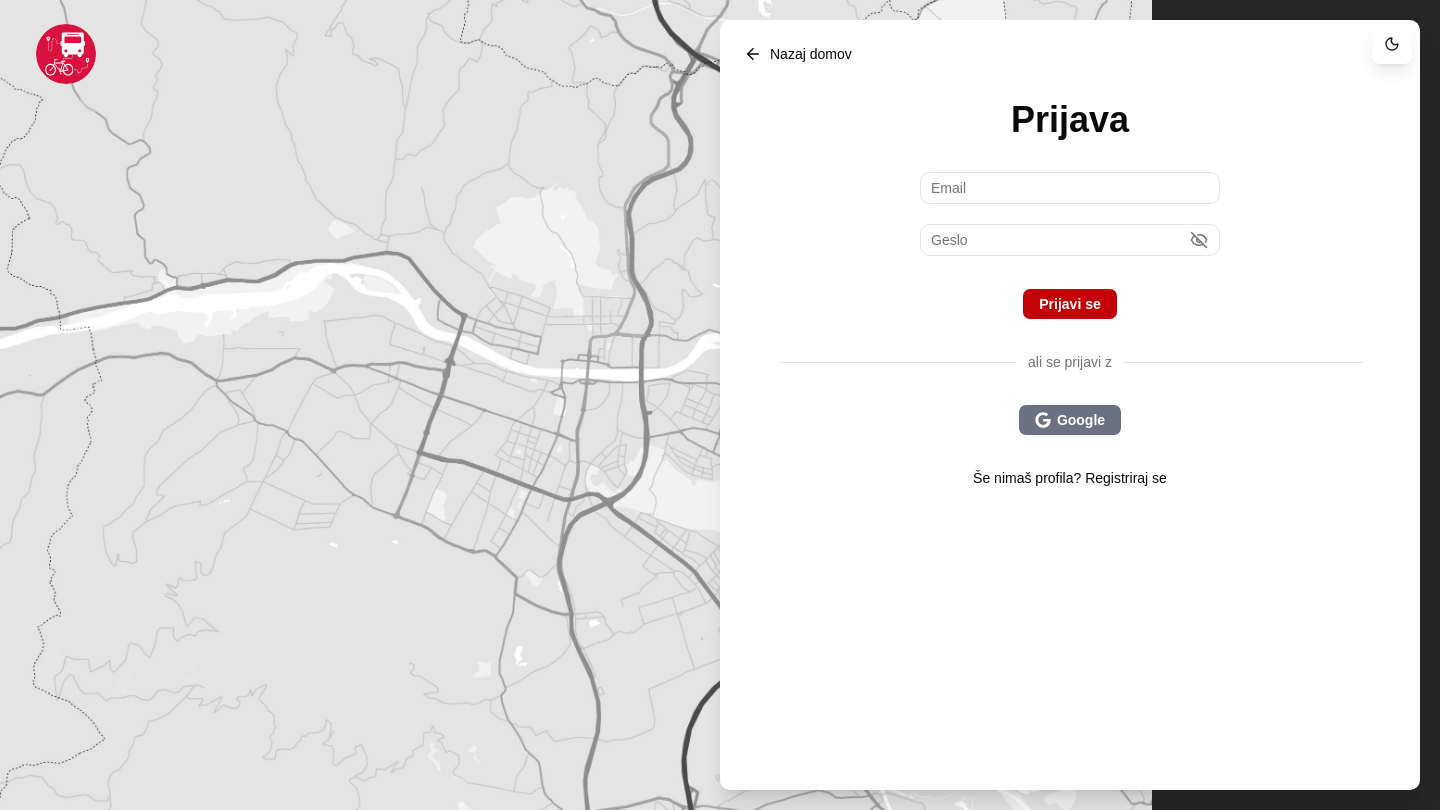
it: integracijski Login in Register › Login prikaže napako za auth/invalid-email
Click the button "Prijavi se": (1070, 304) [1022, 288, 1118, 320]
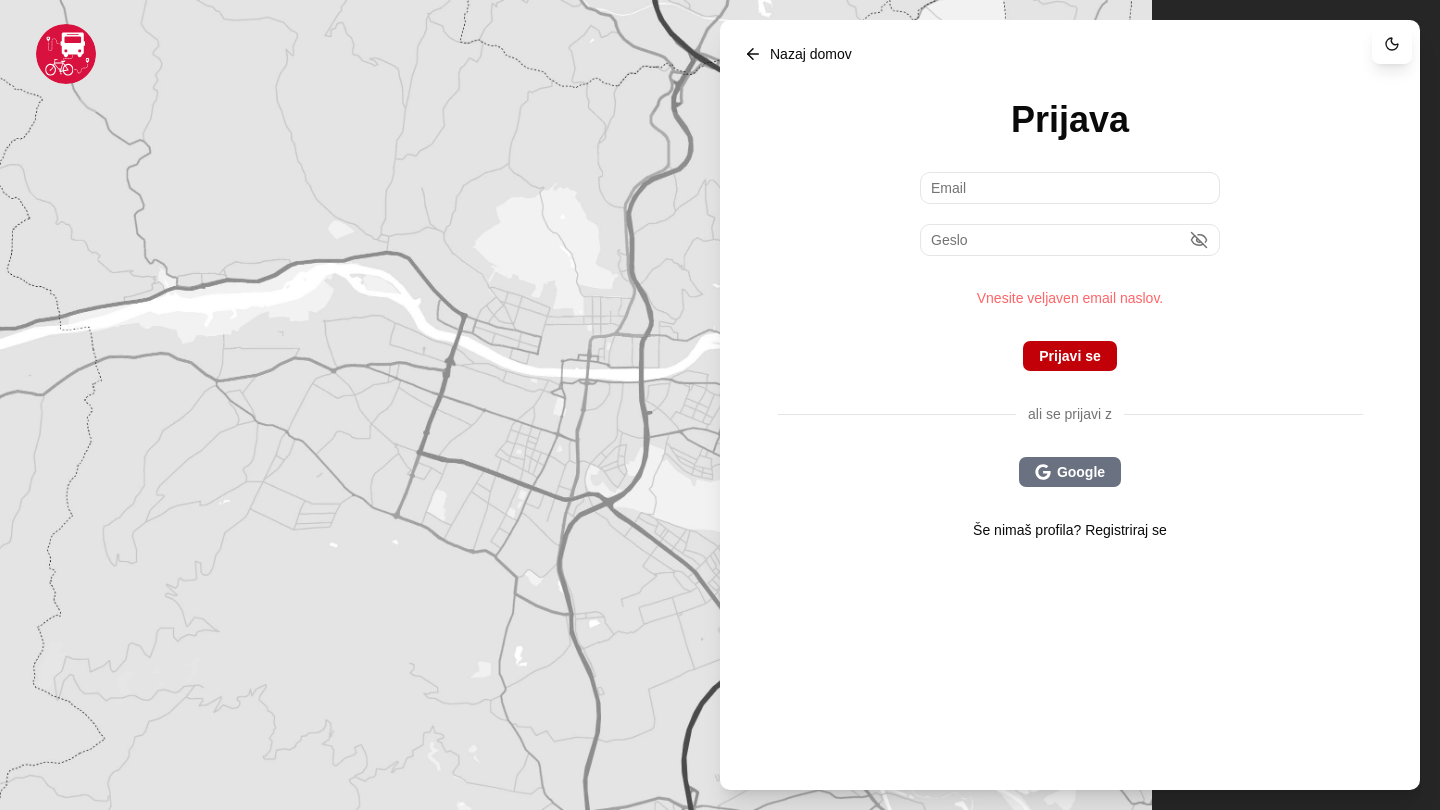
Check: the text "Vnesite veljaven email naslov." is shown, box [977, 290, 1163, 306]
